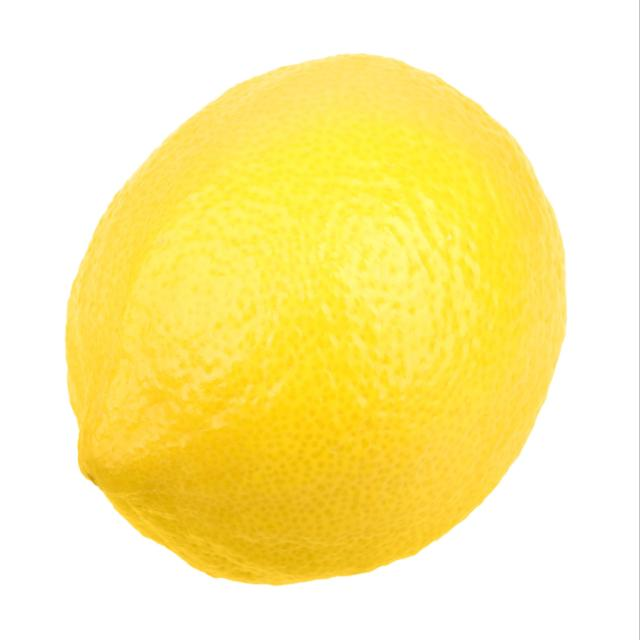lemon: (54, 43, 580, 593)
